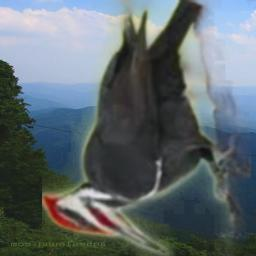Woodpecker: (42, 0, 251, 256)
